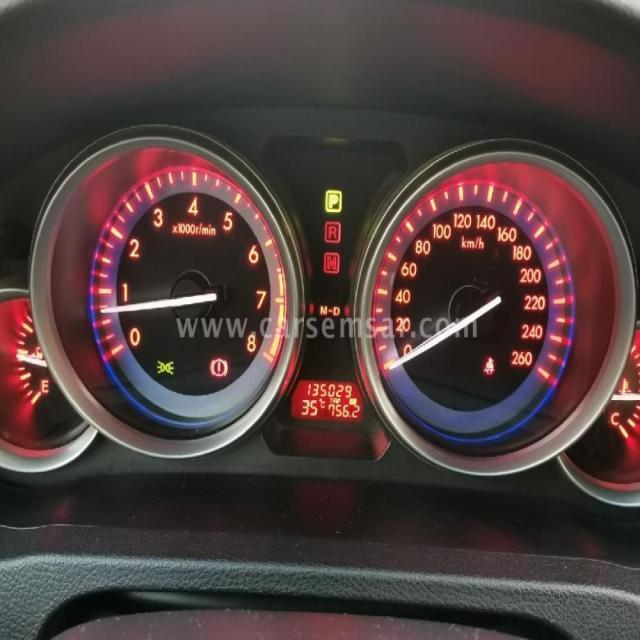High Engine Coolant Temperature: (618, 378, 630, 396)
Seat Belt: (484, 357, 494, 376)
